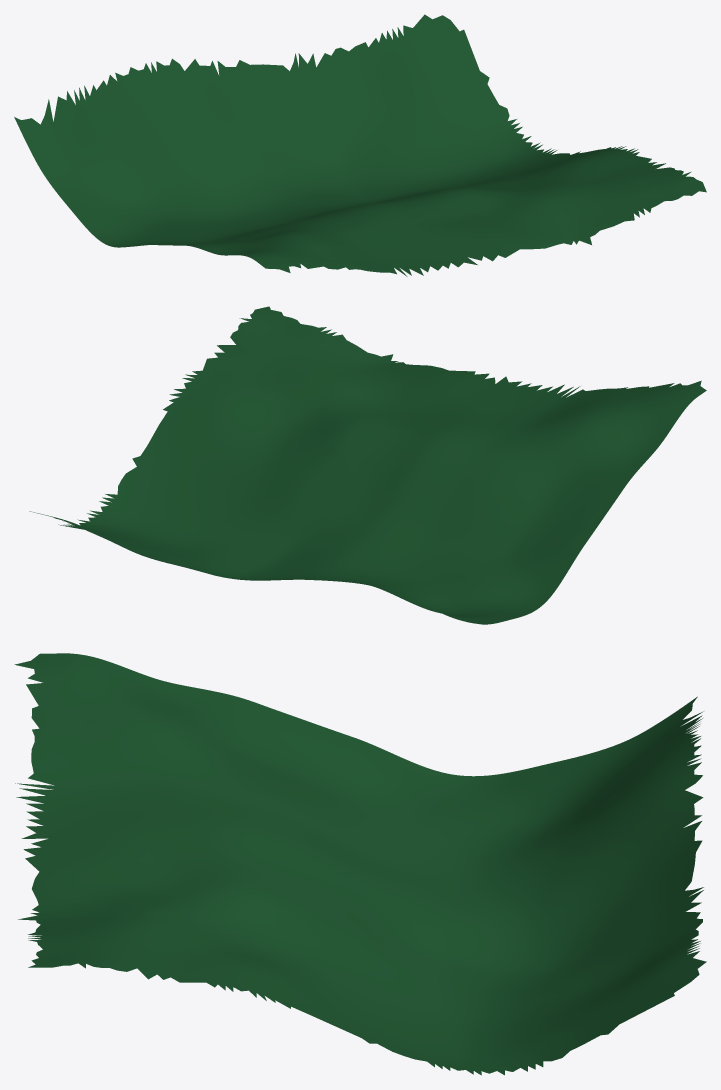
Rendered from payo_land_xm4_y1.glb.
3 views of the same model, one above another, from view 1: azimuth 30°, elevation 25°; view 2: azimuth 150°, elevation 25°; view 3: azimuth 270°, elevation 25° (orthographic). The views are drawn at different scales.
Visible parts, largest first — view 1: payo_land_xm4_y1; view 2: payo_land_xm4_y1; view 3: payo_land_xm4_y1.
Boxes of the visible parts, x1,y1,x2,y2 form: payo_land_xm4_y1: (14,14,706,276); payo_land_xm4_y1: (29,306,706,624); payo_land_xm4_y1: (14,653,706,1075).
Bounding box in the file's own units: 260 × 63.55 × 268.
